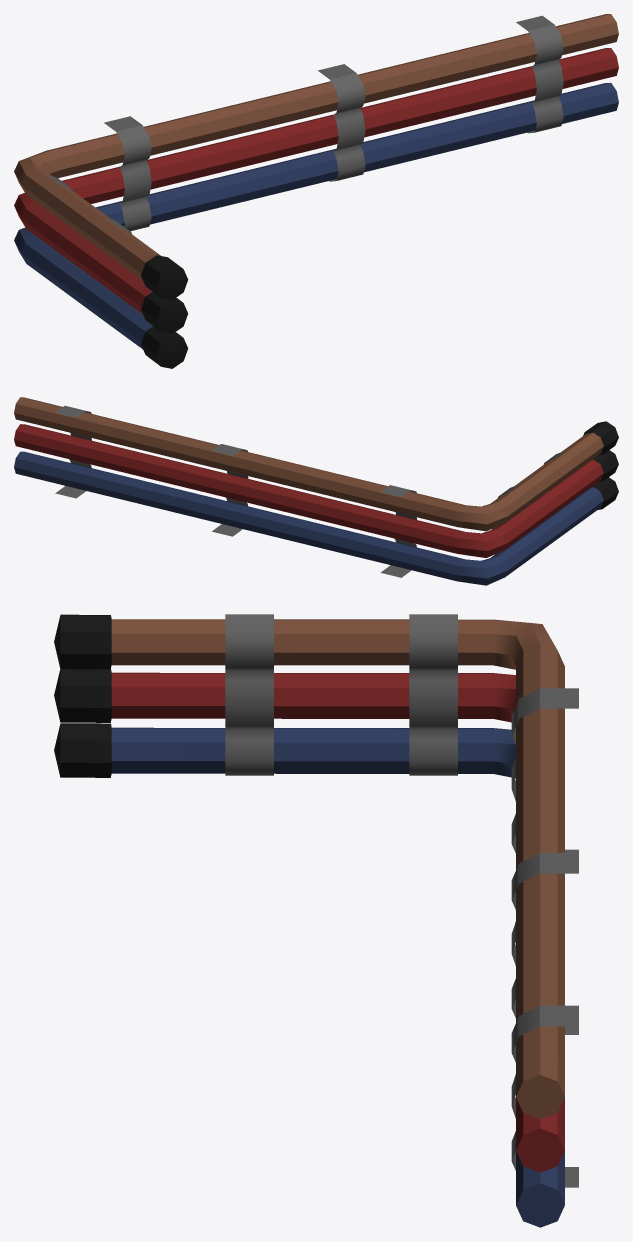
The model's file is Tubes.fbx.
3 views of the same model, one above another, from view 1: azimuth 30°, elevation 25°; view 2: azimuth 150°, elevation 25°; view 3: azimuth 270°, elevation 25° (orthographic). The views are drawn at different scales.
Parts seen in each view (by area): view 1: pCylinder3, pCylinder2, pCylinder1, pPlane4, pPlane5, pPlane3; view 2: pCylinder1, pCylinder2, pCylinder3, pPlane5, pPlane3, pPlane4; view 3: pCylinder3, pCylinder1, pCylinder2, pPlane1, pPlane2, pPlane5, pPlane4, pPlane3.
Part boxes in pixels (x1,y1,x2,y2): pCylinder3: [14, 14, 618, 299]; pCylinder2: [14, 48, 618, 333]; pCylinder1: [14, 82, 618, 368]; pPlane4: [318, 64, 365, 181]; pPlane5: [516, 15, 563, 133]; pPlane3: [104, 116, 151, 231]; pCylinder1: [14, 451, 618, 585]; pCylinder2: [14, 424, 618, 557]; pCylinder3: [14, 397, 618, 531]; pPlane5: [55, 405, 91, 498]; pPlane3: [380, 485, 416, 577]; pPlane4: [212, 444, 248, 536]; pCylinder3: [54, 614, 564, 1118]; pCylinder1: [54, 723, 564, 1227]; pCylinder2: [54, 669, 564, 1172]; pPlane1: [225, 614, 273, 775]; pPlane2: [409, 614, 457, 775]; pPlane5: [511, 1005, 578, 1187]; pPlane4: [511, 853, 578, 1034]; pPlane3: [511, 688, 578, 853].
Size of the model in its own units: 45.28 by 7.32 by 21.49.
